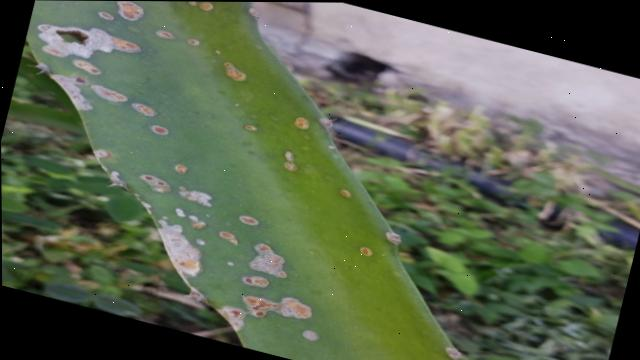stemcanker: (218, 57, 258, 90), (276, 146, 306, 180), (298, 325, 328, 349), (218, 228, 245, 252), (149, 25, 178, 46), (291, 111, 314, 136), (234, 212, 261, 231), (168, 159, 193, 179), (354, 240, 376, 262), (147, 122, 177, 138), (184, 2, 218, 16), (239, 118, 262, 137), (183, 34, 208, 51), (94, 8, 118, 24), (334, 184, 351, 202)
